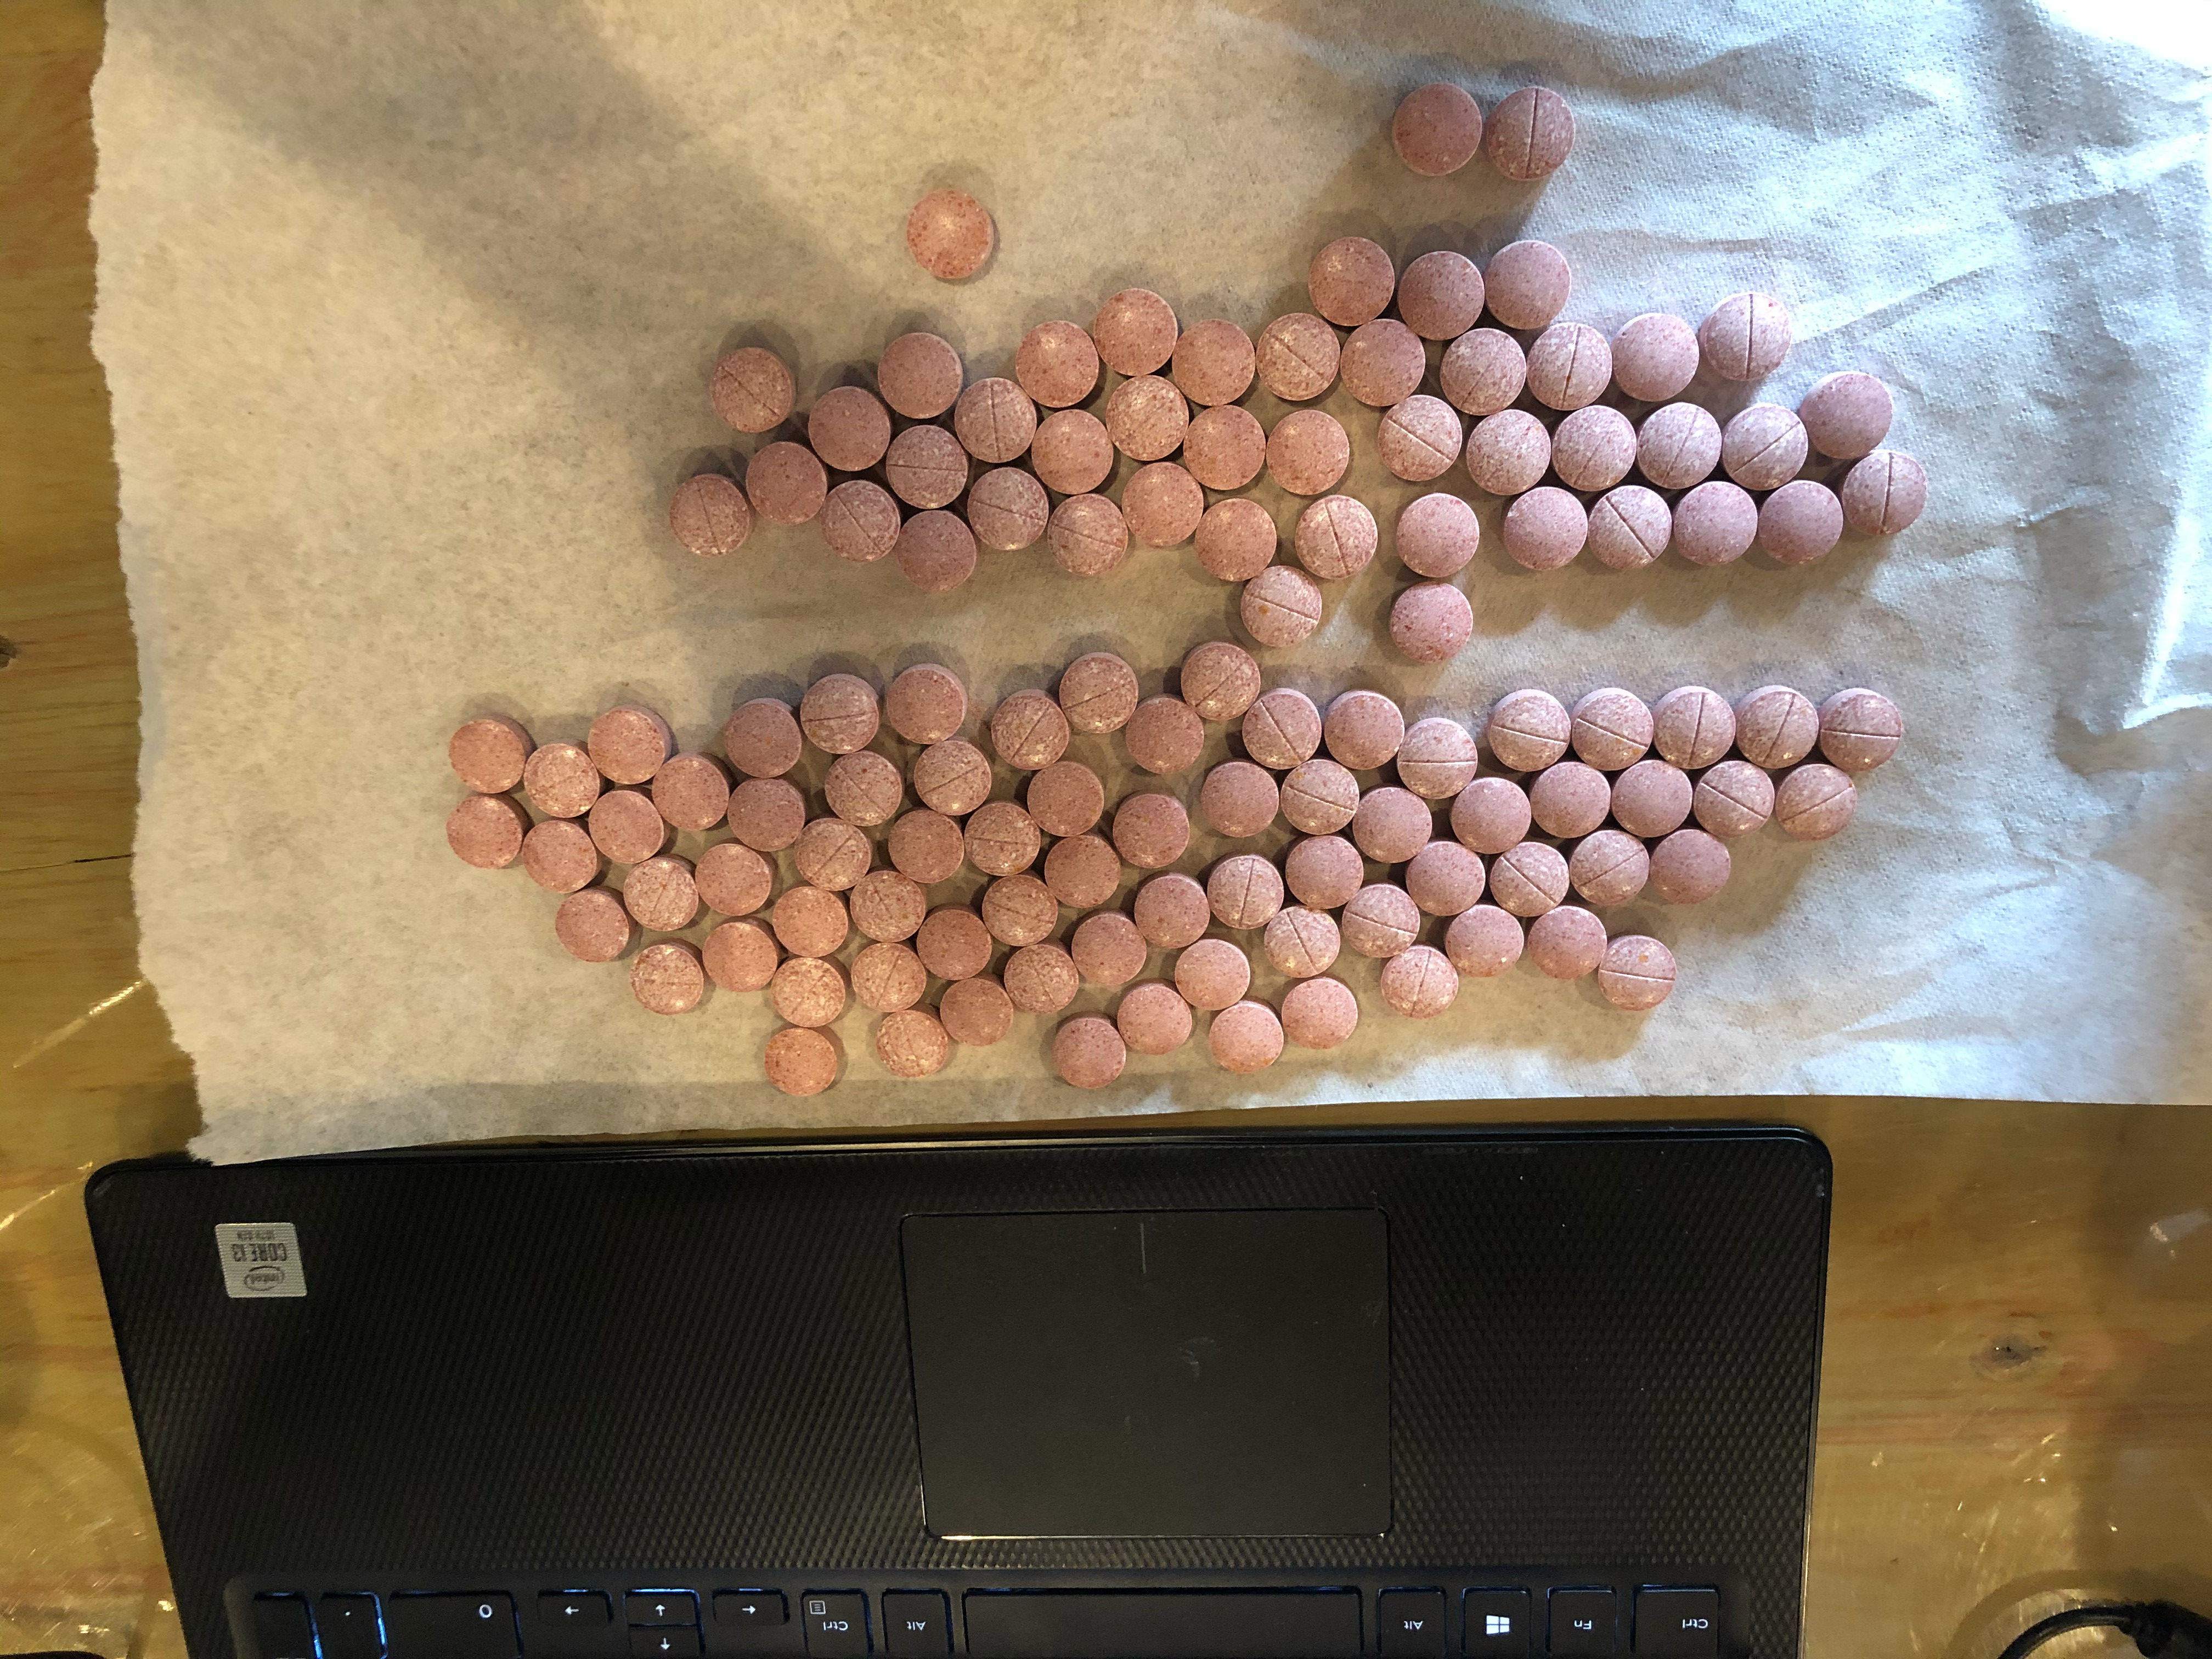tablet: (902, 186, 1001, 286), (1480, 84, 1578, 185), (1390, 80, 1484, 179), (1435, 326, 1531, 420), (702, 342, 799, 434), (1395, 246, 1487, 343), (1461, 406, 1557, 498), (1254, 310, 1346, 404), (1482, 237, 1575, 331), (1305, 232, 1395, 328), (1801, 369, 1897, 460), (1010, 317, 1103, 410), (1609, 310, 1702, 403), (1702, 291, 1794, 383), (1291, 491, 1381, 586), (1371, 392, 1465, 483), (1092, 284, 1181, 380), (876, 329, 967, 422), (1103, 371, 1193, 464), (1383, 579, 1475, 669), (1634, 399, 1724, 491), (949, 375, 1040, 465), (1029, 404, 1120, 495), (1524, 321, 1615, 411), (1838, 448, 1928, 538), (665, 471, 758, 559), (1500, 483, 1588, 575), (1719, 401, 1808, 493), (1191, 497, 1282, 586), (1548, 404, 1639, 493), (1583, 483, 1670, 575), (1338, 317, 1428, 404), (1757, 479, 1844, 570), (961, 467, 1054, 552), (1120, 460, 1207, 549), (1170, 317, 1258, 406), (1670, 481, 1759, 568), (1486, 687, 1575, 774), (1263, 410, 1353, 495), (806, 383, 894, 471), (883, 422, 970, 509), (819, 479, 904, 568), (1045, 491, 1130, 580), (1181, 403, 1266, 491), (1238, 563, 1327, 648), (1392, 491, 1480, 577), (1653, 683, 1738, 772), (745, 441, 831, 528), (885, 660, 972, 746), (986, 687, 1071, 774), (1055, 650, 1141, 737), (1568, 687, 1655, 772), (1820, 687, 1905, 774), (894, 509, 977, 598), (796, 673, 885, 756), (719, 697, 805, 782), (1395, 716, 1480, 802), (1176, 641, 1263, 725), (1320, 688, 1407, 772), (1609, 758, 1696, 842), (1648, 826, 1735, 910), (1691, 758, 1778, 842), (1449, 774, 1534, 857), (1735, 685, 1820, 769), (587, 704, 674, 786), (587, 784, 672, 866), (1277, 756, 1362, 838), (1775, 762, 1860, 843), (1109, 789, 1193, 871), (1242, 687, 1324, 770), (1406, 838, 1487, 922), (448, 714, 533, 795), (1122, 697, 1207, 777), (1526, 903, 1611, 983), (1566, 830, 1653, 908), (1352, 784, 1433, 866), (618, 854, 702, 934), (1442, 903, 1527, 981), (521, 741, 603, 821), (650, 751, 732, 831), (726, 774, 808, 854), (1049, 1012, 1130, 1093), (1205, 997, 1287, 1077), (1130, 871, 1212, 951), (1529, 760, 1611, 840), (444, 793, 528, 871), (698, 917, 782, 995), (1042, 833, 1125, 911), (1261, 903, 1345, 981), (1489, 840, 1573, 918), (911, 739, 996, 816), (695, 838, 775, 918), (1205, 854, 1285, 934), (554, 887, 636, 965), (791, 816, 873, 894), (1198, 760, 1280, 838), (1278, 974, 1360, 1053), (1284, 833, 1366, 911), (521, 817, 604, 894), (887, 807, 967, 885), (1001, 941, 1082, 1019), (1172, 934, 1252, 1012), (1597, 934, 1677, 1012), (770, 884, 852, 960), (822, 749, 904, 826), (961, 800, 1043, 877), (1024, 760, 1106, 836), (1339, 884, 1421, 960), (916, 904, 995, 983), (1071, 911, 1150, 990), (1116, 981, 1195, 1060), (631, 939, 711, 1016), (979, 871, 1061, 946), (1378, 946, 1461, 1019), (761, 1025, 841, 1100), (768, 955, 850, 1028), (937, 976, 1015, 1051), (846, 870, 927, 943), (850, 939, 930, 1012), (874, 1007, 953, 1080)
